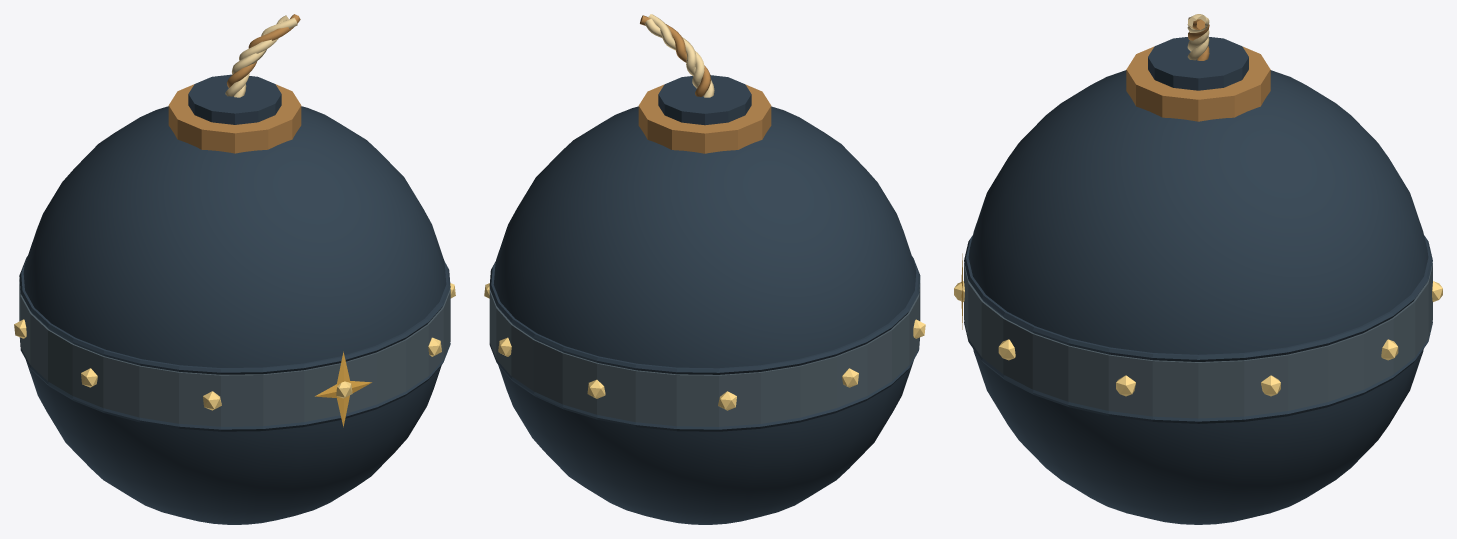
The model's file is bomb.glb.
3 renders of one model, left to right at view 1: azimuth 30°, elevation 25°; view 2: azimuth 150°, elevation 25°; view 3: azimuth 270°, elevation 25°, orthographic. The views are drawn at different scales.
Visible parts, largest first — view 1: bomb; view 2: bomb; view 3: bomb.
Part boxes in pixels (x1,y1,x2,y2): bomb: (14, 14, 455, 524); bomb: (484, 14, 925, 524); bomb: (954, 14, 1442, 524).
Size of the model in its own units: 0.482 by 0.5853 by 0.5024.
